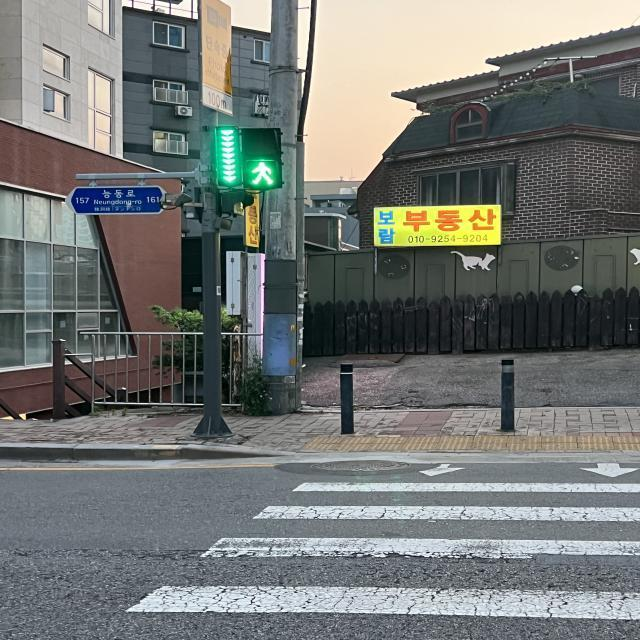crosswalk: (110, 445, 640, 640)
geen-crossing: (188, 112, 308, 209)
